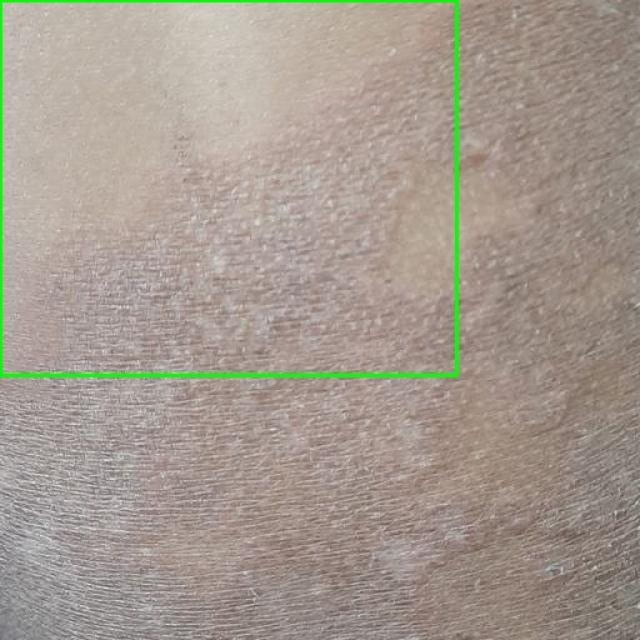Tinea Corporis: (0, 0, 456, 375)
